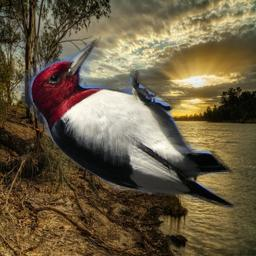Woodpecker: (19, 36, 248, 210)
